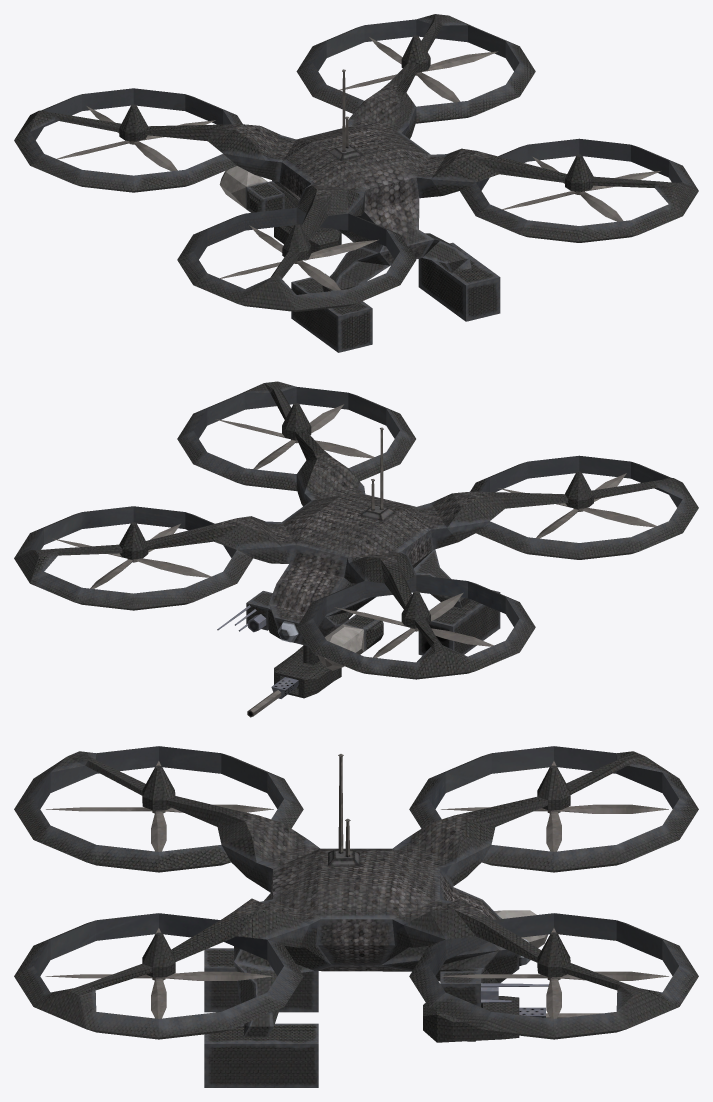
The model's file is sad_drone.fbx.
3 renders of one model, top to bottom at view 1: azimuth 30°, elevation 25°; view 2: azimuth 150°, elevation 25°; view 3: azimuth 270°, elevation 25°, orthographic. The views are drawn at different scales.
Visible parts, largest first — view 1: sad_drone, sad_drone.003, sad_drone.002, sad_drone.001, sad_drone.004; view 2: sad_drone, sad_drone.004, sad_drone.001, sad_drone.002, sad_drone.003; view 3: sad_drone, sad_drone.001, sad_drone.002, sad_drone.004, sad_drone.003.
Part boxes in pixels (box(x1,y1,x2,y2)): sad_drone: box(14, 14, 698, 352); sad_drone.003: box(220, 225, 378, 290); sad_drone.002: box(339, 37, 498, 102); sad_drone.001: box(502, 156, 661, 221); sad_drone.004: box(57, 105, 215, 171); sad_drone: box(14, 381, 698, 717); sad_drone.004: box(334, 592, 493, 657); sad_drone.001: box(215, 404, 374, 469); sad_drone.002: box(52, 523, 210, 588); sad_drone.003: box(498, 473, 656, 538); sad_drone: box(14, 746, 698, 1087); sad_drone.001: box(45, 927, 273, 1018); sad_drone.002: box(441, 927, 668, 1018); sad_drone.004: box(441, 760, 668, 851); sad_drone.003: box(46, 760, 273, 851).
Size of the model in its own units: 520 by 230 by 520.
1 material, 1 textured.
